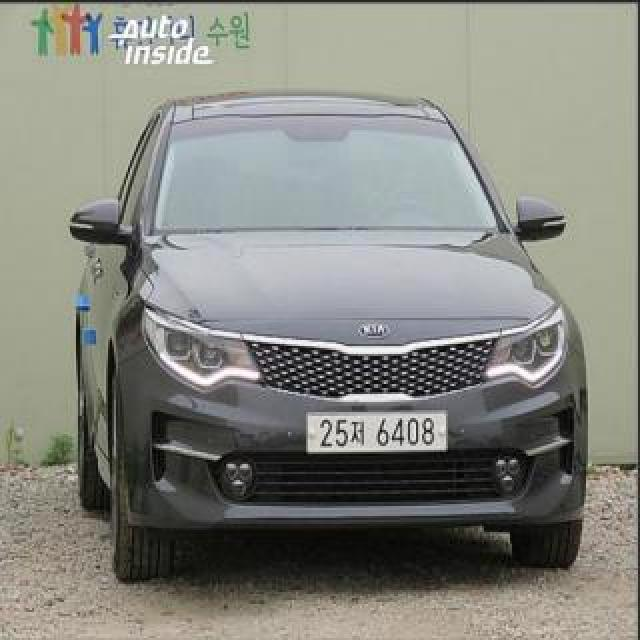car: (58, 83, 593, 582)
illegal_plate: (305, 406, 449, 465)
